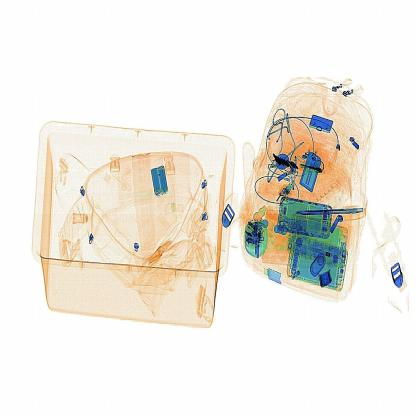pliers: (297, 205, 365, 222)
